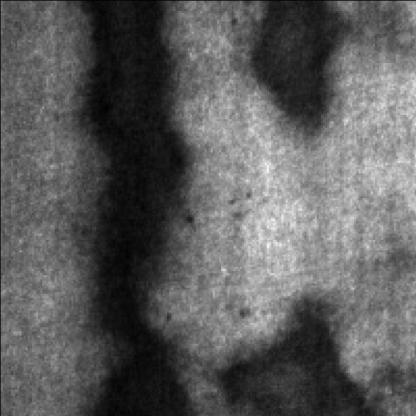patches: (75, 4, 189, 325), (223, 308, 383, 416), (254, 3, 358, 141), (93, 297, 199, 416)
